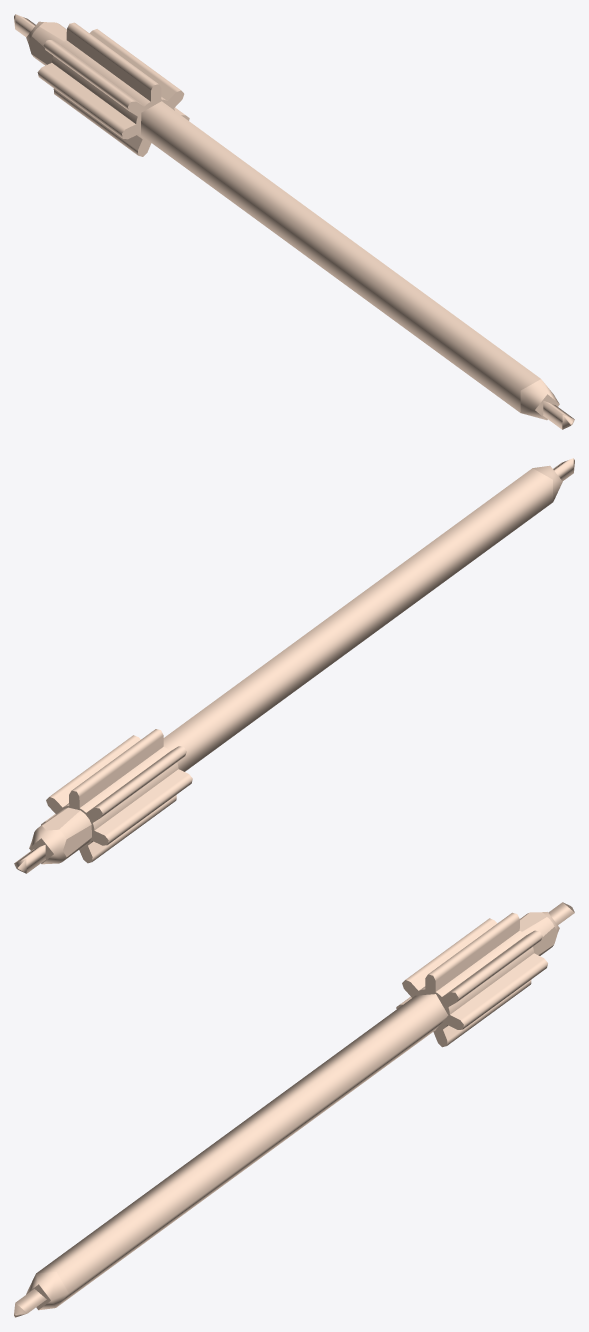
The model's file is Axe_Roue etoile Heures.obj.
3 views of the same model, one above another, from view 1: azimuth 30°, elevation 25°; view 2: azimuth 150°, elevation 25°; view 3: azimuth 330°, elevation 25° (orthographic).
Parts seen in each view (by area): view 1: Face_5, Face_28, Face_31, Face_24, Face_21, Face_32, Face_25, Face_26, Face_12, Face_30, Face_48, Face_49; view 2: Face_5, Face_28, Face_31, Face_24, Face_32, Face_25, Face_19, Face_26, Face_11, Face_30, Face_48, Face_49; view 3: Face_5, Face_48, Face_21, Face_45, Face_24, Face_44, Face_23, Face_22, Face_12, Face_46, Face_27, Face_28.
Part boxes in pixels (x1,y1,x2,y2): Face_5: (141,101,540,412); Face_28: (43,40,135,111); Face_31: (42,63,135,128); Face_24: (67,22,158,90); Face_21: (122,84,189,156); Face_32: (37,67,125,138); Face_25: (66,29,150,101); Face_26: (60,40,150,106); Face_12: (520,379,559,420); Face_30: (52,56,137,123); Face_48: (92,29,180,92); Face_49: (89,31,175,100); Face_5: (163,468,553,771); Face_28: (94,746,186,817); Face_31: (94,769,188,835); Face_24: (72,729,163,796); Face_32: (105,774,192,844); Face_25: (79,735,163,807); Face_19: (41,790,108,863); Face_26: (80,746,169,812); Face_11: (29,826,66,864); Face_30: (93,762,178,830); Face_48: (49,735,138,798); Face_49: (54,737,140,807); Face_5: (36,994,448,1307); Face_48: (451,930,542,1001); Face_21: (396,974,463,1047); Face_45: (450,953,543,1019); Face_24: (428,912,519,980); Face_44: (460,958,547,1029); Face_23: (435,919,519,991); Face_22: (436,930,525,996); Face_12: (26,1272,68,1310); Face_46: (448,947,533,1014); Face_27: (411,920,497,990); Face_28: (405,918,494,981).
Bounding box in the file's own units: 0.00651 × 0.00637 × 0.0926.
